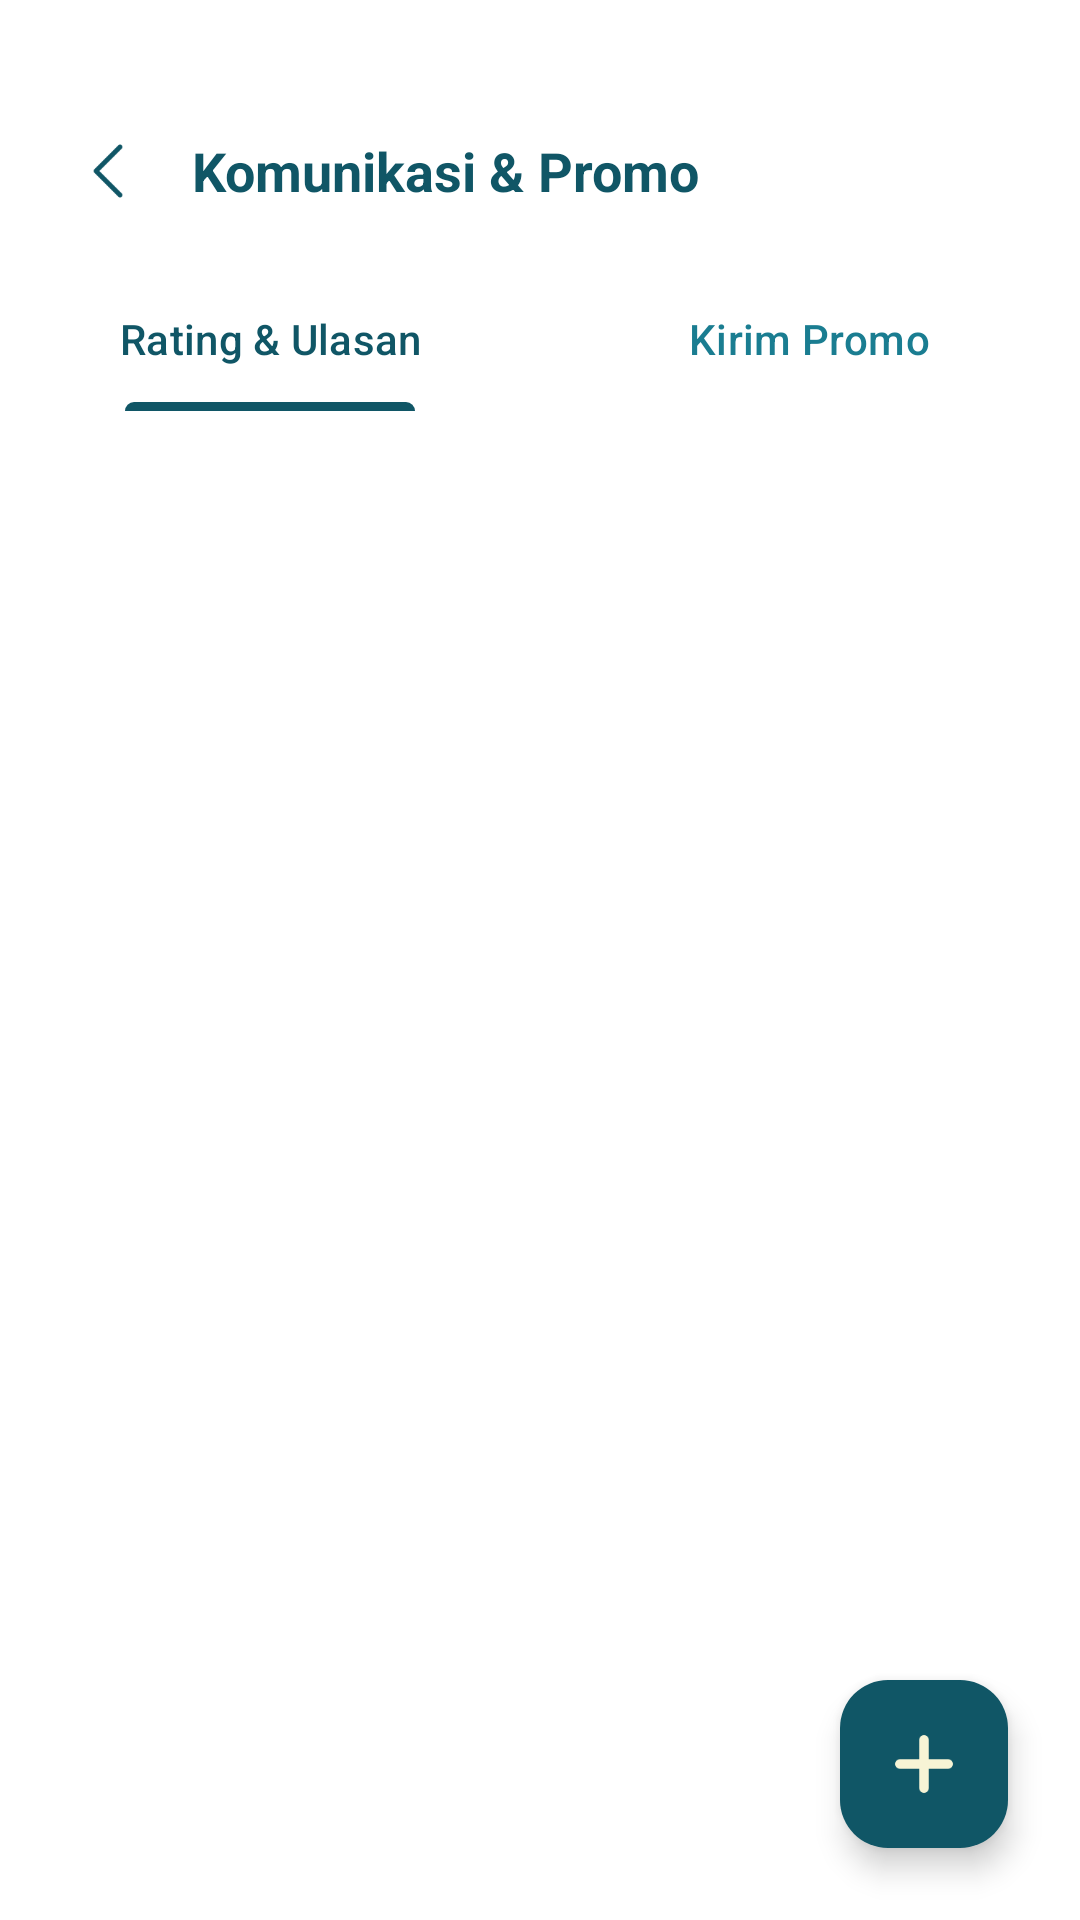

Icon bounding boxes for this 1080px×1920px phone screenshot, format (x1=x1, y1=y1, x2=x2, y2=y2):
back: (x1=93, y1=144, x2=123, y2=198)
plus: (x1=840, y1=1680, x2=1008, y2=1848)
